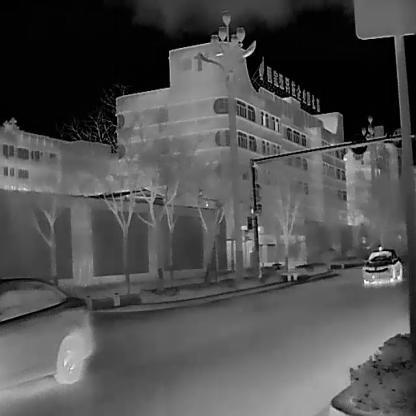car: (4, 279, 97, 388), (363, 246, 403, 285)
